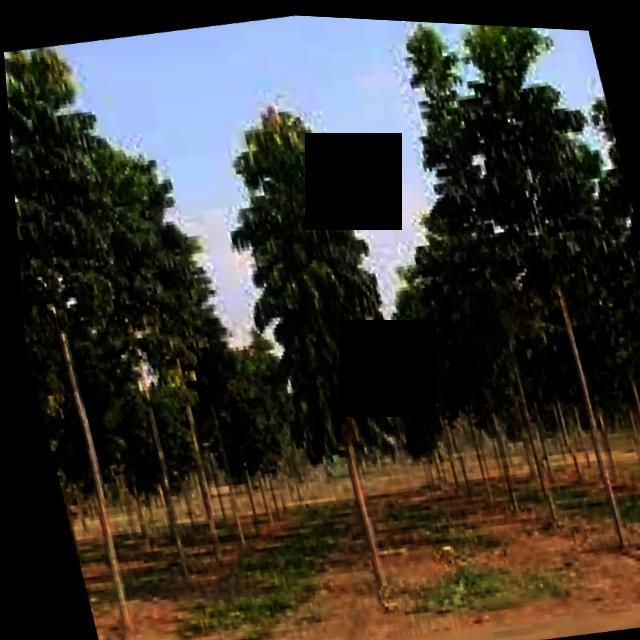tree: (192, 89, 446, 604), (2, 39, 208, 640), (443, 18, 640, 559), (200, 386, 280, 529)
